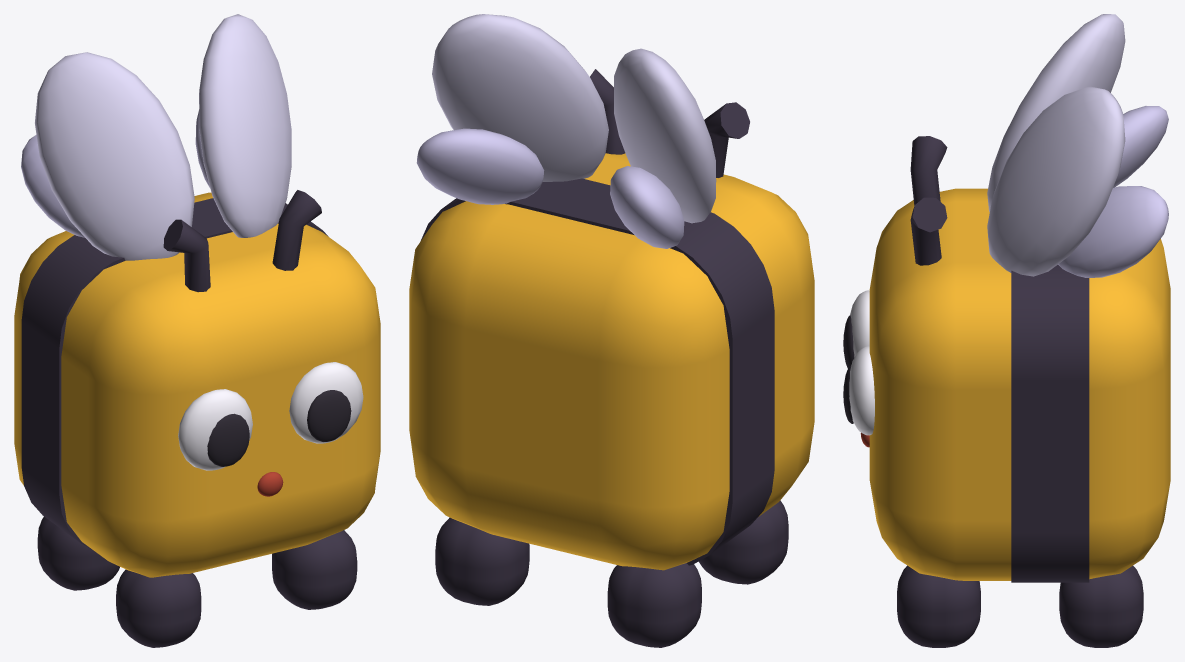
The model's file is pet-bee.glb.
3 renders of one model, left to right at view 1: azimuth 30°, elevation 25°; view 2: azimuth 150°, elevation 25°; view 3: azimuth 270°, elevation 25°, orthographic. The views are drawn at different scales.
Parts seen in each view (by area): view 1: body, wing_-1, wing_1, black_band, foot_L_front, foot_R_front, foot_L_back, eye_white_-1, eye_white_1, antenna_1, antenna_-1, wing_small_-1 (+2 smaller); view 2: body, wing_1, black_band, wing_-1, wing_small_1, foot_L_back, foot_R_back, wing_small_-1, foot_L_front, antenna_-1, antenna_1; view 3: body, black_band, wing_1, wing_-1, wing_small_1, foot_R_front, foot_R_back, wing_small_-1, antenna_1, eye_white_1, antenna_-1, eye_white_-1.
Boxes of the visible parts, box(x1,y1,x2,y2) form: body: box(14, 192, 380, 577); wing_-1: box(35, 52, 194, 260); wing_1: box(199, 14, 291, 237); black_band: box(21, 198, 328, 549); foot_L_front: box(116, 569, 201, 647); foot_R_front: box(272, 530, 357, 609); foot_L_back: box(37, 516, 119, 590); eye_white_-1: box(178, 389, 252, 470); eye_white_1: box(289, 362, 363, 443); antenna_1: box(272, 190, 321, 270); antenna_-1: box(163, 219, 210, 292); wing_small_-1: box(21, 135, 84, 237); body: box(409, 153, 814, 570); wing_1: box(432, 14, 608, 181); black_band: box(421, 178, 774, 565); wing_-1: box(614, 48, 716, 223); wing_small_1: box(416, 128, 544, 204); foot_L_back: box(607, 563, 701, 647); foot_R_back: box(435, 517, 529, 605); wing_small_-1: box(610, 166, 684, 248); foot_L_front: box(698, 500, 788, 584); antenna_-1: box(704, 102, 749, 177); antenna_1: box(590, 69, 625, 154); body: box(869, 188, 1170, 580); black_band: box(1011, 265, 1089, 582); wing_1: box(987, 86, 1125, 276); wing_-1: box(987, 14, 1125, 211); wing_small_1: box(1058, 186, 1168, 277); foot_R_front: box(897, 565, 980, 647); foot_R_back: box(1059, 566, 1143, 647); wing_small_-1: box(1113, 106, 1168, 187); antenna_1: box(910, 197, 947, 265); eye_white_1: box(849, 346, 874, 435); antenna_-1: box(910, 136, 947, 205); eye_white_-1: box(850, 290, 869, 357).
Size of the model in its own units: 1.13 by 2.01 by 1.09.
